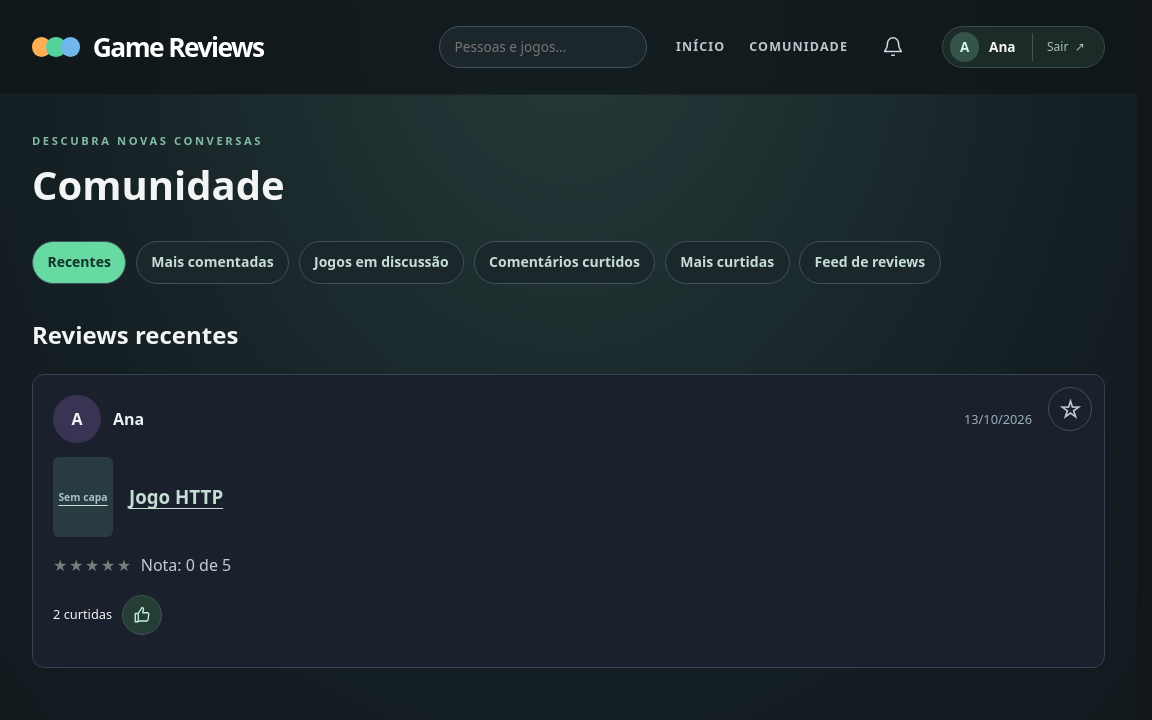
Test case: PUT/DELETE sem corpo, contagem revalidada e likes independentes dos favoritos
This screenshot has width=1152, height=720.
What coordinates should you click on to do the following:
click the button named "Curtir review de Ana"
I would click on:
 (142, 615)
Its box is [122,595,162,635].
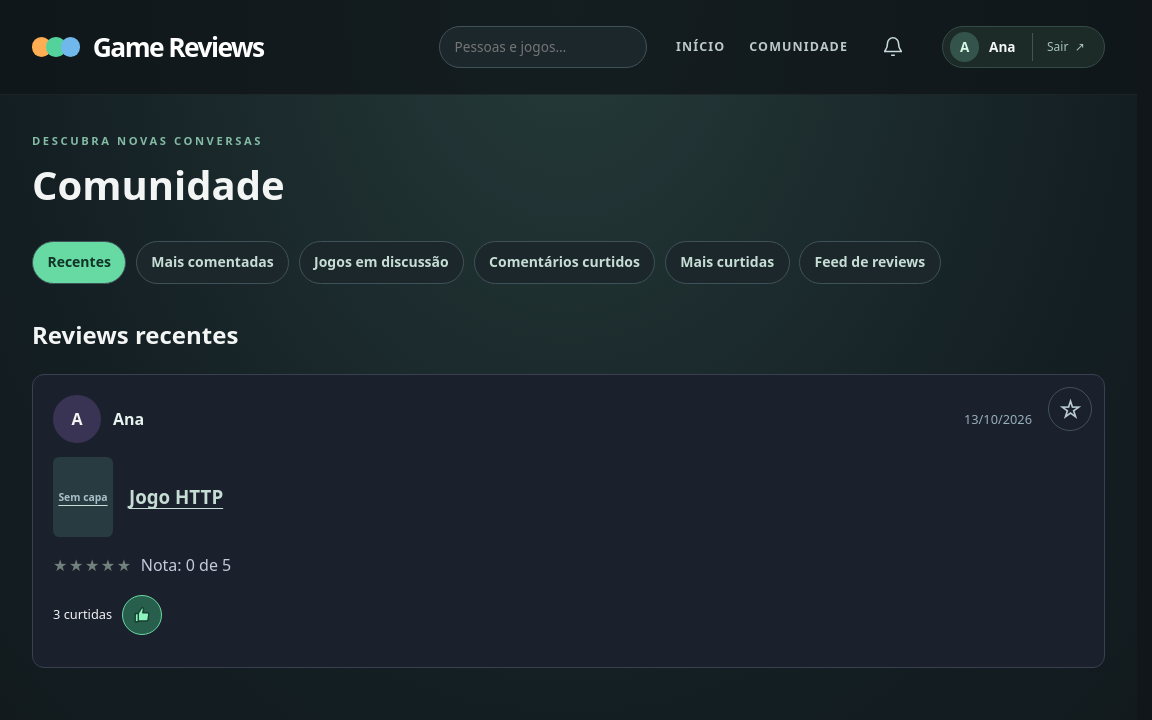
Result: the text "3 curtidas" is shown at [53,604,112,625]
What coordinates should you click on to do the following:
click the button named "Favoritar review de Ana"
I would click on:
 (1070, 409)
Its box is [1048,387,1092,431].
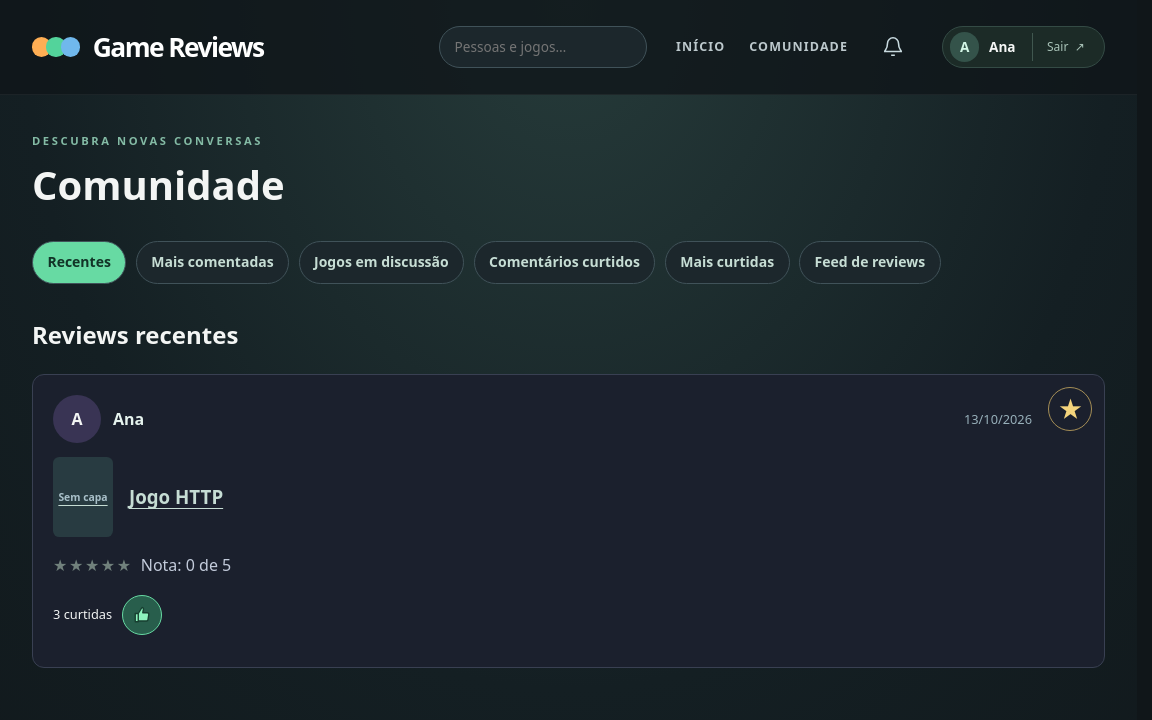
Result: the button named "Remover review de Ana dos favoritos" is shown at [1048,387,1092,431]
What coordinates should you click on to do the following:
click the button named "Retirar curtida da review de Ana"
I would click on:
 (142, 615)
Its box is [122,595,162,635].
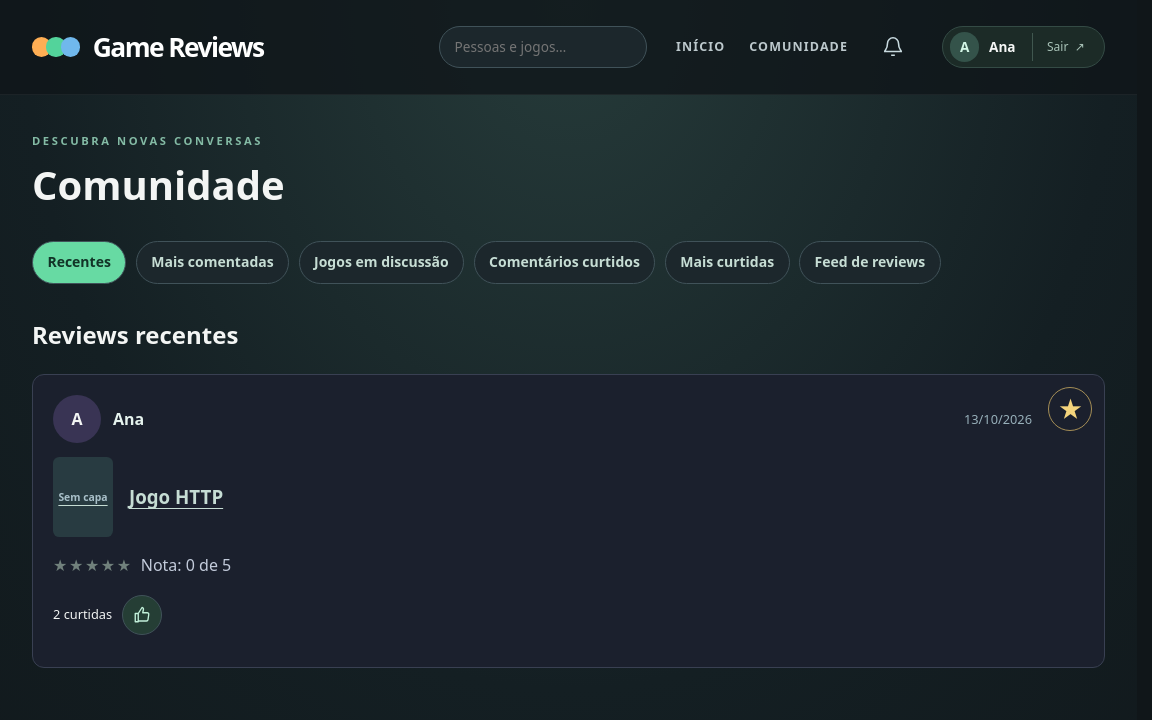
Result: the button named "Curtir review de Ana" is shown at [122,595,162,635]
Result: the text "2 curtidas" is shown at [53,604,112,625]
